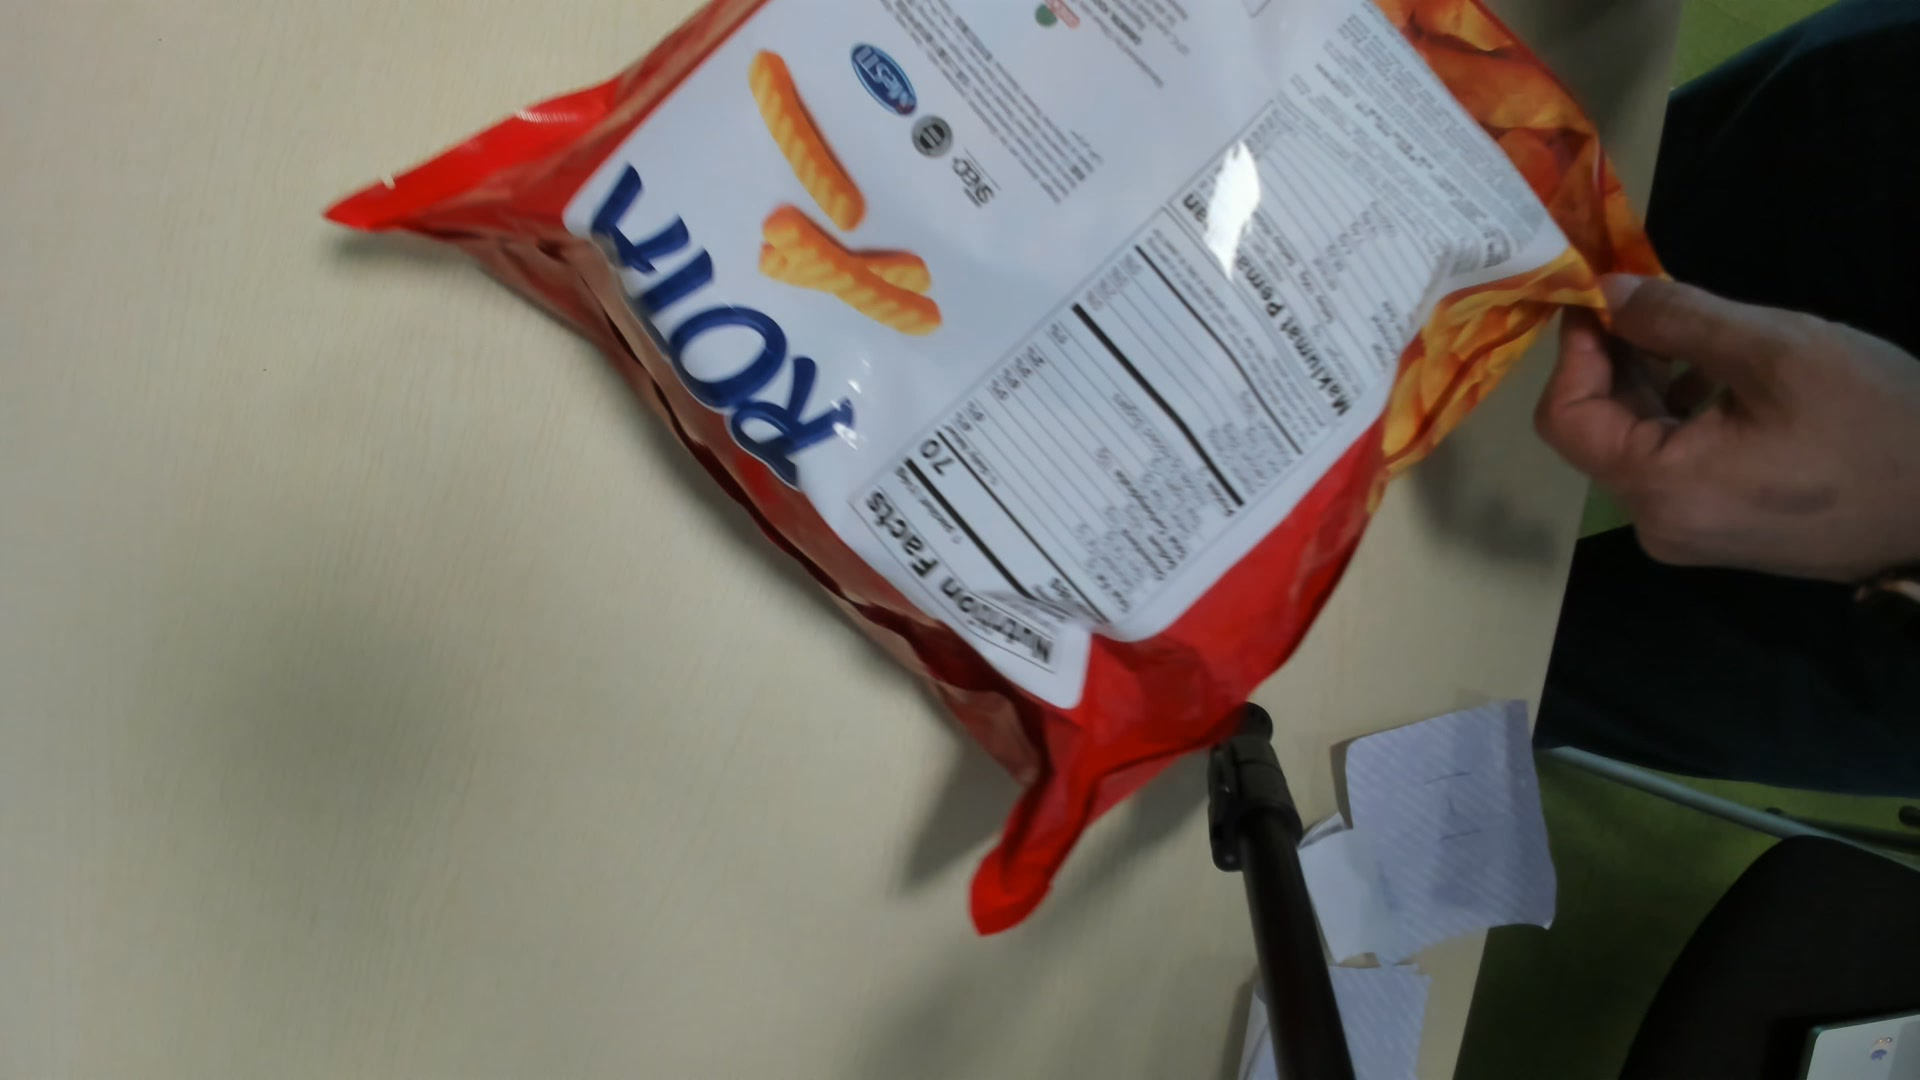PotatoChipsKeropok_100-199g_Halal_NonHealthy: (357, 5, 1630, 903)
